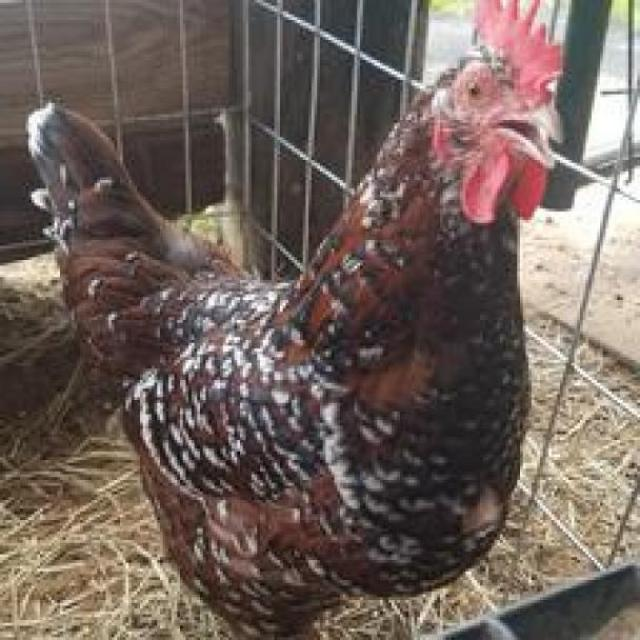Chicken: (33, 0, 588, 640)
